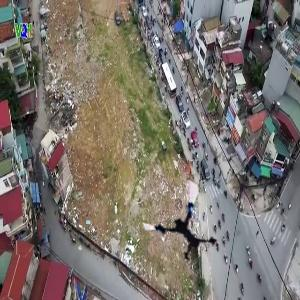drone: (142, 187, 222, 267)
